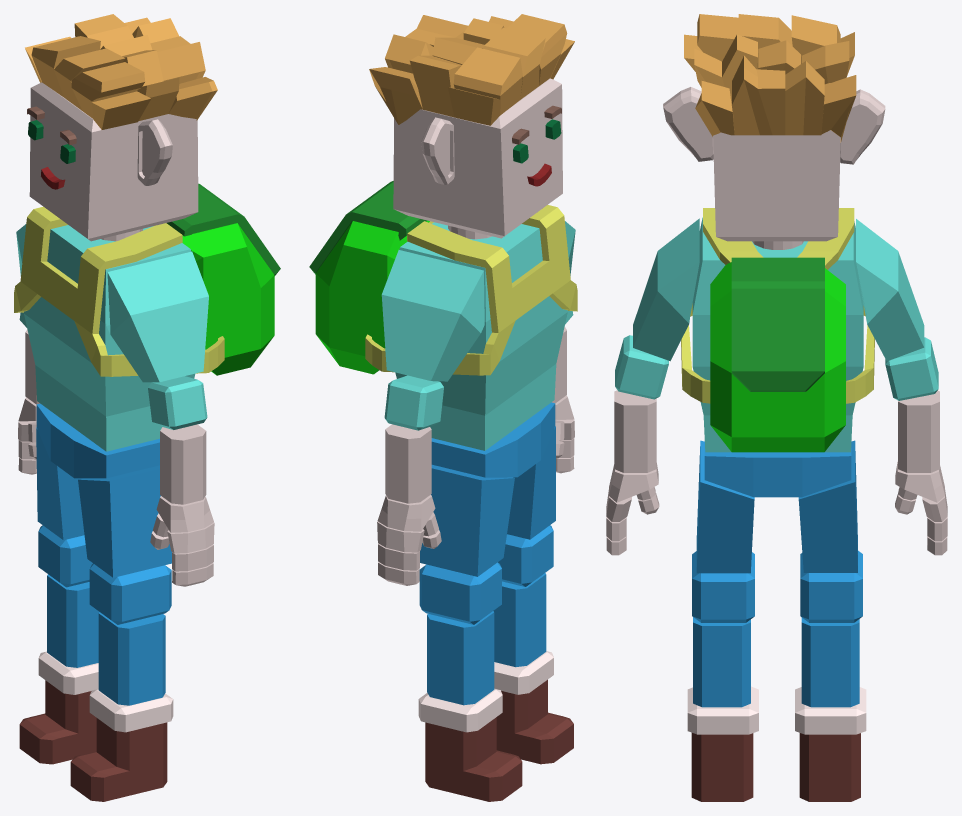
Rendered from Char_01(1).fbx.
3 renders of one model, left to right at view 1: azimuth 30°, elevation 25°; view 2: azimuth 150°, elevation 25°; view 3: azimuth 270°, elevation 25°, orthographic. The views are drawn at different scales.
Parts seen in each view (by area): view 1: Head, Hair, Shirt, Shoulders, Hips, Boots, Straps, Lower Legs, Pack, Knees, Wrists, Pelvis (+5 smaller); view 2: Head, Hair, Shirt, Shoulders, Hips, Boots, Straps, Lower Legs, Pack, Knees, Wrists, Pelvis (+5 smaller); view 3: Hair, Head, Pack, Valve, Shoulders, Hips, Lower Legs, Boots, Shirt, Knees, Hands, Pelvis (+4 smaller).
Boxes of the visible parts, box(x1,y1,x2,y2) form: Head: box(29, 82, 198, 241); Hair: box(25, 14, 217, 129); Shirt: box(24, 225, 195, 451); Shoulders: box(16, 224, 208, 382); Hips: box(36, 427, 171, 577); Boots: box(19, 680, 167, 801); Straps: box(14, 206, 224, 376); Lower Legs: box(47, 574, 165, 705); Pack: box(182, 223, 274, 375); Knees: box(38, 525, 171, 624); Wrists: box(18, 397, 214, 586); Pelvis: box(36, 403, 159, 478); Head: box(393, 78, 562, 238); Hair: box(369, 14, 574, 125); Shirt: box(395, 222, 567, 450); Shoulders: box(381, 221, 575, 381); Hips: box(420, 426, 555, 576); Boots: box(425, 679, 573, 801); Straps: box(365, 205, 577, 375); Lower Legs: box(427, 573, 546, 705); Pack: box(315, 220, 429, 374); Knees: box(419, 525, 553, 624); Wrists: box(377, 395, 574, 585); Pelvis: box(431, 402, 555, 477); Hair: box(684, 14, 856, 142); Head: box(663, 87, 885, 241); Pack: box(710, 262, 845, 452); Valve: box(731, 257, 824, 391); Shoulders: box(633, 218, 924, 361); Hips: box(696, 440, 857, 573); Lower Legs: box(693, 617, 859, 707); Boots: box(691, 733, 860, 801); Shirt: box(692, 217, 863, 452); Knees: box(692, 550, 862, 622); Hands: box(614, 390, 939, 472); Pelvis: box(704, 442, 851, 497).
Size of the model in its own units: 298 by 974 by 399.
